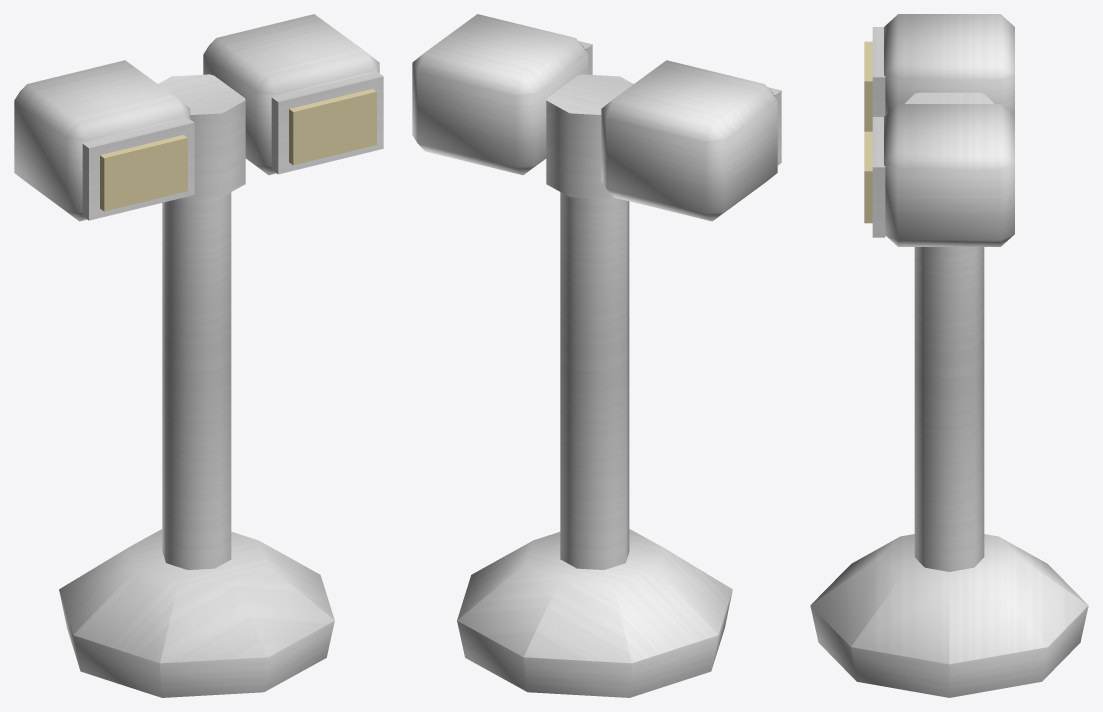
Rendered from flood_light.obj.
3 renders of one model, left to right at view 1: azimuth 30°, elevation 25°; view 2: azimuth 150°, elevation 25°; view 3: azimuth 270°, elevation 25°, orthographic. The views are drawn at different scales.
Parts seen in each view (by area): view 1: retained_0, retained_44, retained_112, retained_180, retained_72, retained_236, retained_168, retained_156, retained_224; view 2: retained_0, retained_44, retained_112, retained_180, retained_72; view 3: retained_0, retained_44, retained_180, retained_112, retained_224, retained_156, retained_72, retained_236, retained_168.
Boxes of the visible parts, bbox=[...] form: retained_0: bbox=[59, 529, 334, 697]; retained_44: bbox=[162, 192, 231, 569]; retained_112: bbox=[14, 60, 190, 221]; retained_180: bbox=[203, 14, 379, 175]; retained_72: bbox=[158, 74, 245, 199]; retained_236: bbox=[289, 88, 376, 165]; retained_168: bbox=[100, 135, 187, 211]; retained_156: bbox=[82, 118, 194, 220]; retained_224: bbox=[271, 72, 383, 174]; retained_0: bbox=[457, 529, 732, 697]; retained_44: bbox=[560, 192, 629, 569]; retained_112: bbox=[601, 60, 777, 221]; retained_180: bbox=[412, 14, 588, 175]; retained_72: bbox=[546, 74, 633, 199]; retained_0: bbox=[810, 534, 1088, 697]; retained_44: bbox=[914, 247, 984, 571]; retained_180: bbox=[884, 104, 1014, 246]; retained_112: bbox=[884, 14, 1014, 116]; retained_224: bbox=[872, 117, 885, 237]; retained_156: bbox=[872, 27, 885, 116]; retained_72: bbox=[905, 92, 993, 103]; retained_236: bbox=[864, 131, 872, 223]; retained_168: bbox=[864, 41, 872, 131].
Size of the model in its own units: 0.86 by 1.51 by 0.68.
